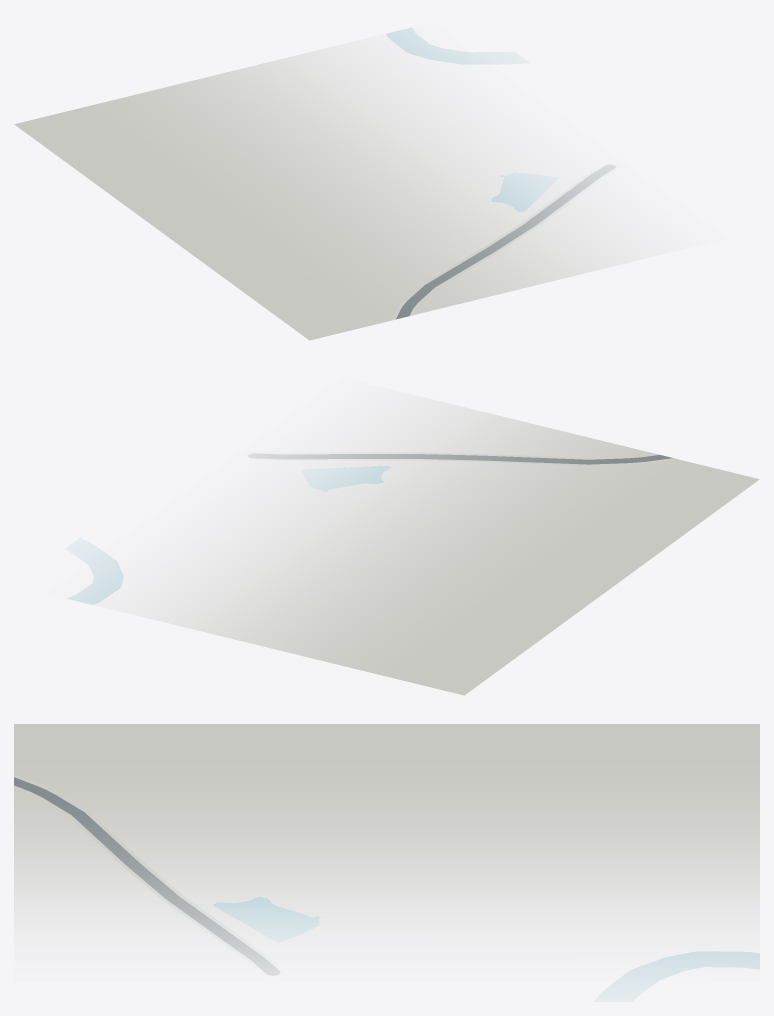
3 renders of one model, top to bottom at view 1: azimuth 30°, elevation 25°; view 2: azimuth 150°, elevation 25°; view 3: azimuth 270°, elevation 25°, orthographic. The views are drawn at different scales.
Visible parts, largest first — view 1: city; view 2: city; view 3: city.
Part boxes in pixels (left/top/right/bottom): city: left=14, top=28, right=667, bottom=340; city: left=67, top=392, right=759, bottom=695; city: left=14, top=724, right=759, bottom=992.
Size of the model in its own units: 440 by 0.4 by 500.
